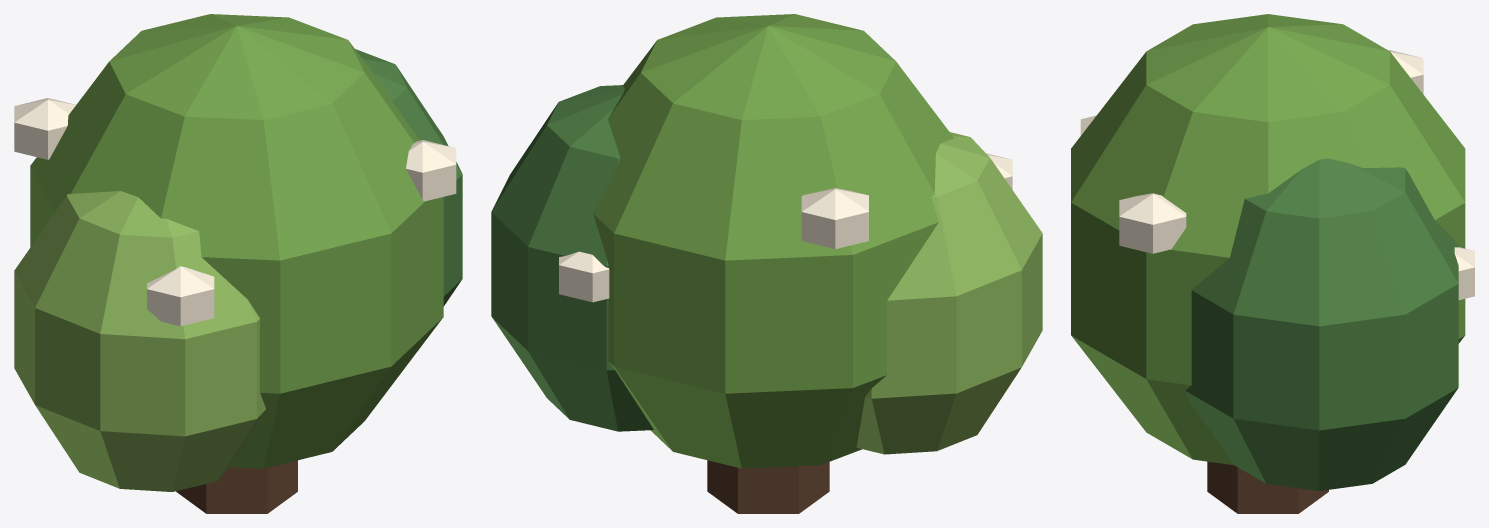
The model's file is bush_spring.glb.
3 renders of one model, left to right at view 1: azimuth 30°, elevation 25°; view 2: azimuth 150°, elevation 25°; view 3: azimuth 270°, elevation 25°, orthographic.
Parts seen in each view (by area): view 1: Bush_round_foliage, Bush_round_foliage.001, Bush_round_foliage.002, Bush_woody_stem, Bush_white_flower, Bush_white_flower.003, Bush_white_flower.001; view 2: Bush_round_foliage, Bush_round_foliage.001, Bush_round_foliage.002, Bush_woody_stem, Bush_white_flower.003, Bush_white_flower.002; view 3: Bush_round_foliage, Bush_round_foliage.002, Bush_woody_stem, Bush_white_flower.001, Bush_white_flower.002, Bush_white_flower.003.
Part boxes in pixels (left/top/right/bottom): Bush_round_foliage: left=30, top=14, right=443, bottom=468; Bush_round_foliage.001: left=14, top=191, right=265, bottom=491; Bush_round_foliage.002: left=355, top=49, right=462, bottom=306; Bush_woody_stem: left=176, top=460, right=297, bottom=513; Bush_white_flower: left=147, top=266, right=214, bottom=326; Bush_white_flower.003: left=14, top=98, right=75, bottom=159; Bush_white_flower.001: left=406, top=140, right=456, bottom=201; Bush_round_foliage: left=593, top=14, right=953, bottom=468; Bush_round_foliage.001: left=856, top=132, right=1042, bottom=454; Bush_round_foliage.002: left=491, top=85, right=653, bottom=431; Bush_woody_stem: left=707, top=460, right=829, bottom=513; Bush_white_flower.003: left=801, top=188, right=868, bottom=249; Bush_white_flower.002: left=559, top=251, right=609, bottom=302; Bush_round_foliage: left=1071, top=14, right=1465, bottom=465; Bush_round_foliage.002: left=1185, top=158, right=1458, bottom=490; Bush_woody_stem: left=1207, top=461, right=1328, bottom=513; Bush_white_flower.001: left=1119, top=193, right=1186, bottom=253; Bush_white_flower.002: left=1454, top=247, right=1474, bottom=300; Bush_white_flower.003: left=1388, top=50, right=1423, bottom=94.
Bounding box in the file's own units: 0.8275 × 0.8 × 0.63.
